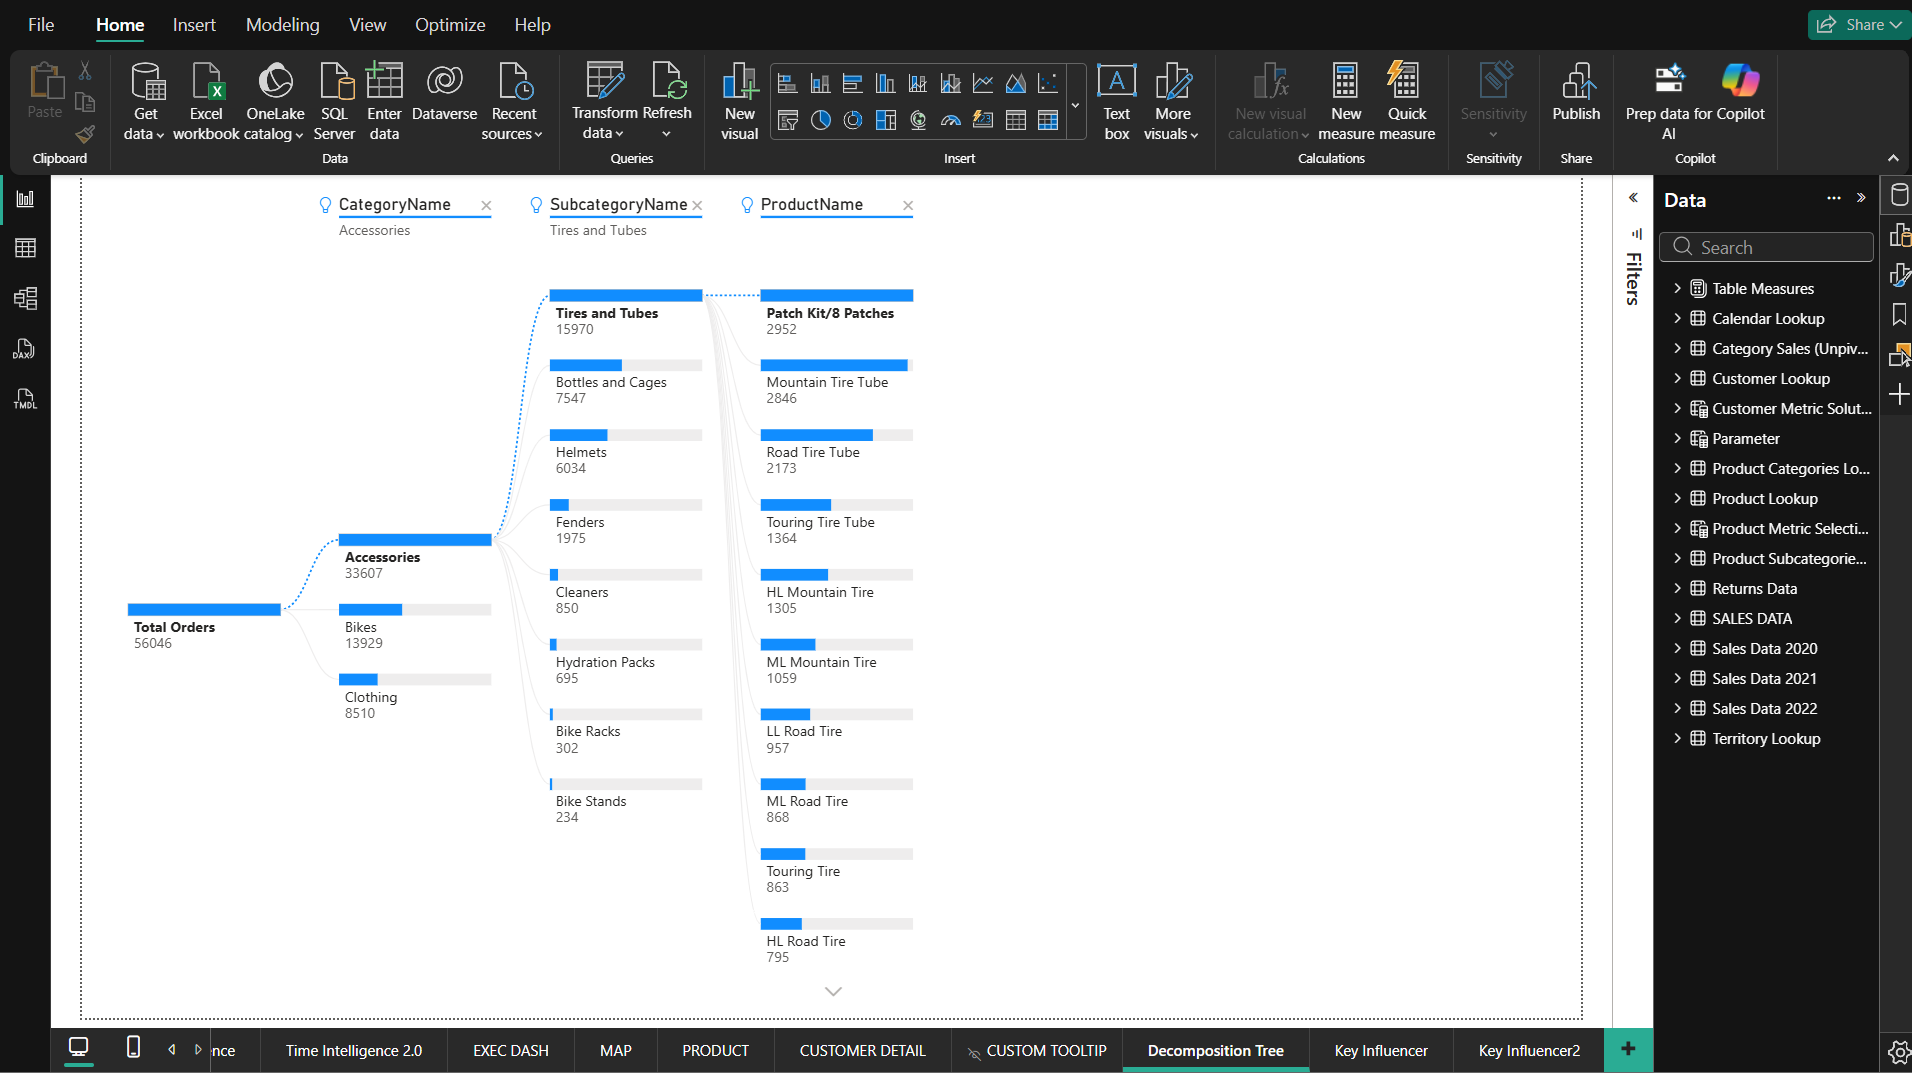

Layout of this report page (visuals, bound fields, positions):
{"tool":"powerbi","page":{"name":"Decomposition Tree","canvas":[1280,720],"ordinal":8},"visuals":[{"type":"decompositionTreeVisual","fields":{"Analyze":["Table Measures.Total Orders"],"ExplainBy":["Product Categories Lookup.CategoryName","Product Subcategories Lookup.SubcategoryName","Product Lookup.ProductName"]},"box":[9.6,0,829.4,720.3],"z":0}]}

Visuals, with their boxes on the page's 1280x720 design canvas (x1, y1, x2, y2). These are canvas units, not pixel positions in the 1912x1073 screenshot, which may show the page scaled, cropped or inside an application window:
decompositionTreeVisual - Table Measures.Total Orders x Product Categories Lookup.CategoryName: [left=10, top=0, right=839, bottom=720]
